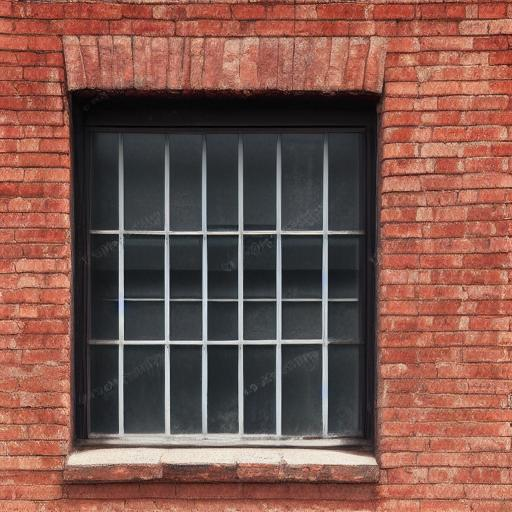Window: (62, 36, 385, 484)
